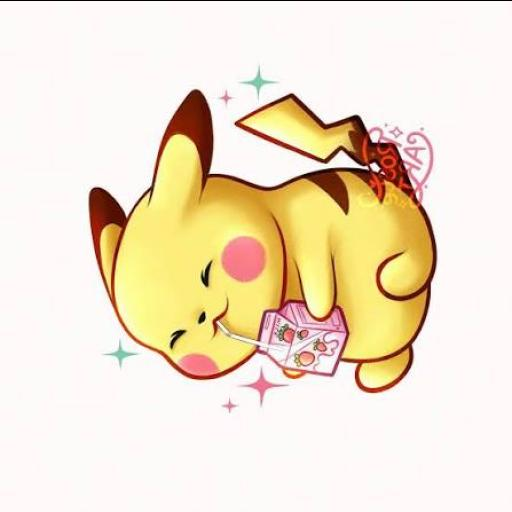Pikachu: (88, 88, 436, 392)
